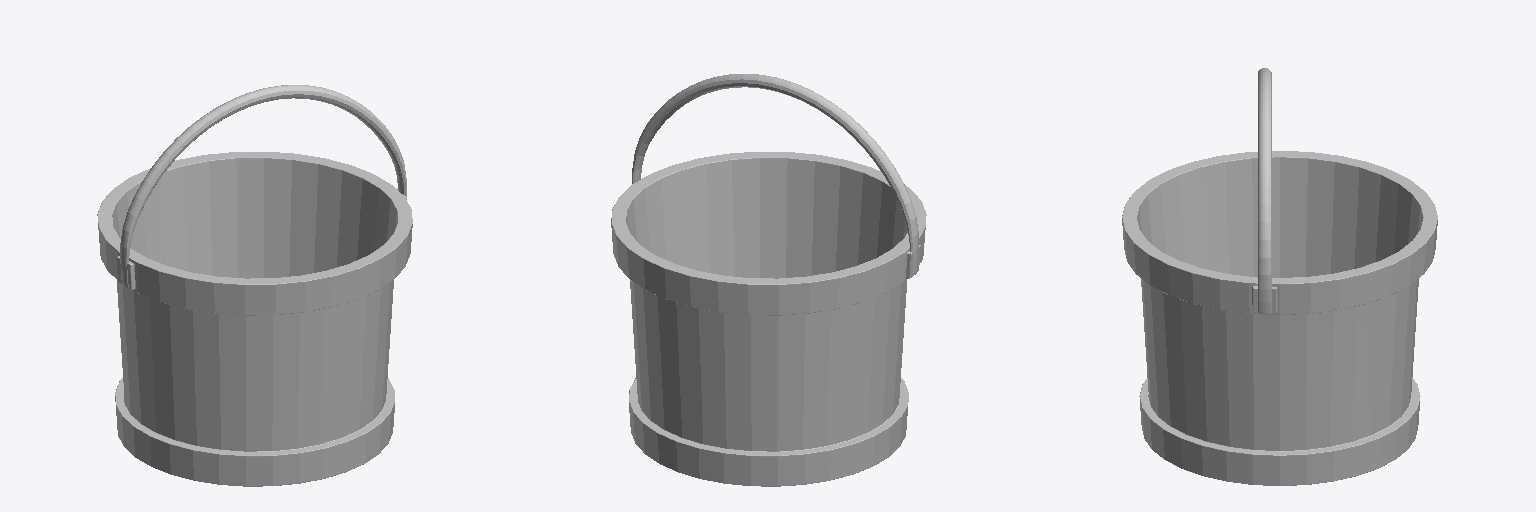
The model's file is SetA_Bucket_Style_01.obj.
3 views of the same model, side by side, from view 1: azimuth 30°, elevation 25°; view 2: azimuth 150°, elevation 25°; view 3: azimuth 270°, elevation 25° (orthographic).
Parts seen in each view (by area): view 1: SetA_Bucket_Style_01; view 2: SetA_Bucket_Style_01; view 3: SetA_Bucket_Style_01.
Part boxes in pixels (left/top/right/bottom): SetA_Bucket_Style_01: left=97, top=85, right=412, bottom=486; SetA_Bucket_Style_01: left=611, top=74, right=926, bottom=486; SetA_Bucket_Style_01: left=1122, top=68, right=1437, bottom=485.
Bounding box in the file's own units: 0.1667 × 0.194 × 0.1612.